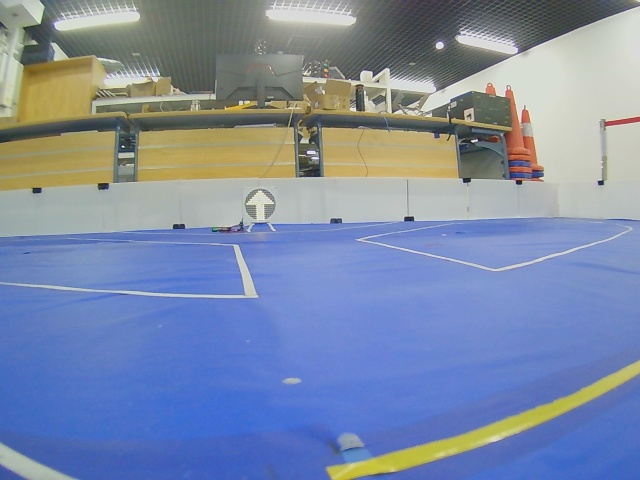straight_yellow: (244, 188, 276, 221)
